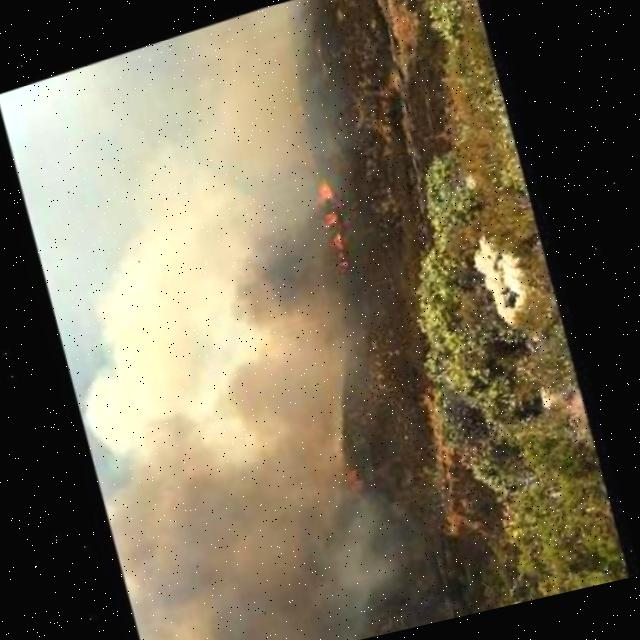fire: (303, 172, 355, 276), (329, 438, 371, 503)
